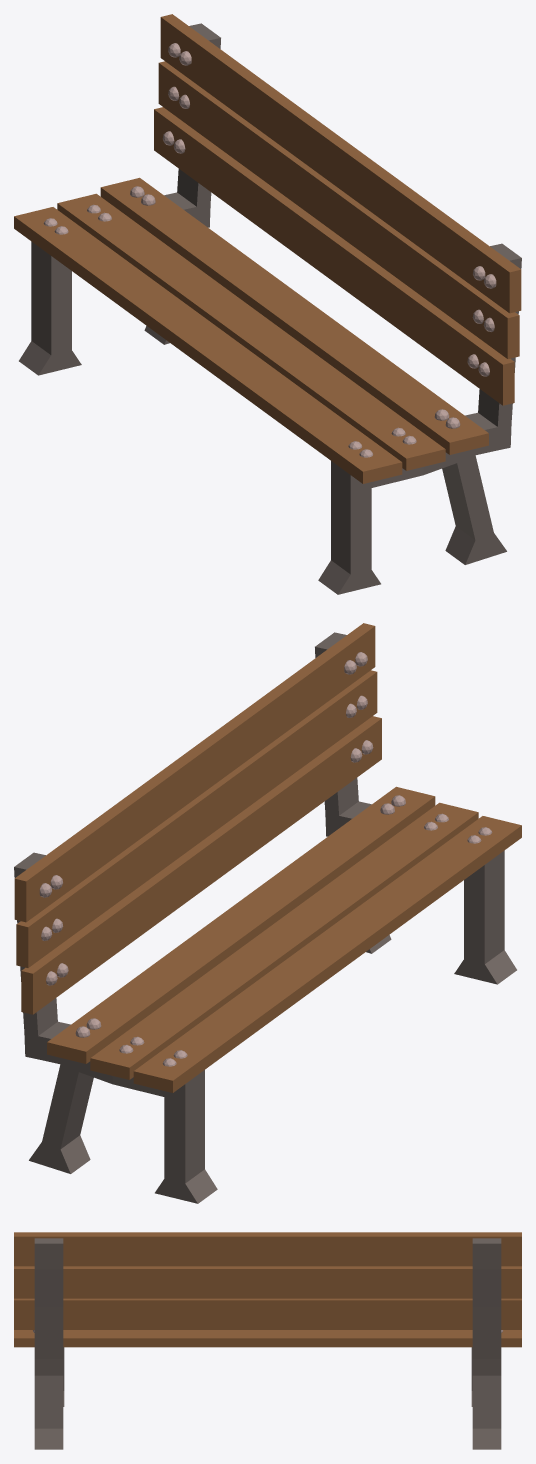
Rendered from Bench.glb.
3 renders of one model, top to bottom at view 1: azimuth 30°, elevation 25°; view 2: azimuth 150°, elevation 25°; view 3: azimuth 270°, elevation 25°, orthographic. The views are drawn at different scales.
Visible parts, largest first — view 1: Cube, Cube.001, Icosphere; view 2: Cube, Cube.001, Icosphere; view 3: Cube, Cube.001.
Part boxes in pixels (bbox=[...]): Cube: bbox=[14, 14, 521, 483]; Cube.001: bbox=[19, 23, 521, 594]; Icosphere: bbox=[43, 43, 496, 457]; Cube: bbox=[14, 623, 521, 1092]; Cube.001: bbox=[14, 632, 516, 1203]; Icosphere: bbox=[39, 652, 492, 1066]; Cube: bbox=[14, 1232, 521, 1347]; Cube.001: bbox=[34, 1238, 501, 1449].
Bounding box in the file's own units: 1.91 × 2.94 × 6.28.
